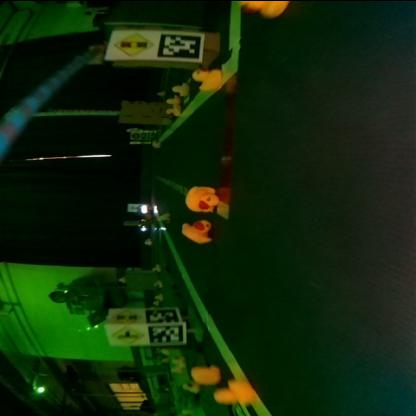Duckie: (213, 379, 252, 403), (240, 0, 287, 16), (184, 185, 214, 209), (182, 219, 212, 242), (192, 67, 221, 88), (191, 364, 219, 382), (172, 82, 190, 94), (166, 103, 180, 115), (165, 95, 180, 102)
Intersection sign: (112, 326, 145, 344)
QR code: (158, 32, 202, 58), (147, 323, 184, 341), (144, 308, 178, 320)
Signal sign: (110, 30, 152, 56), (110, 309, 140, 320)
